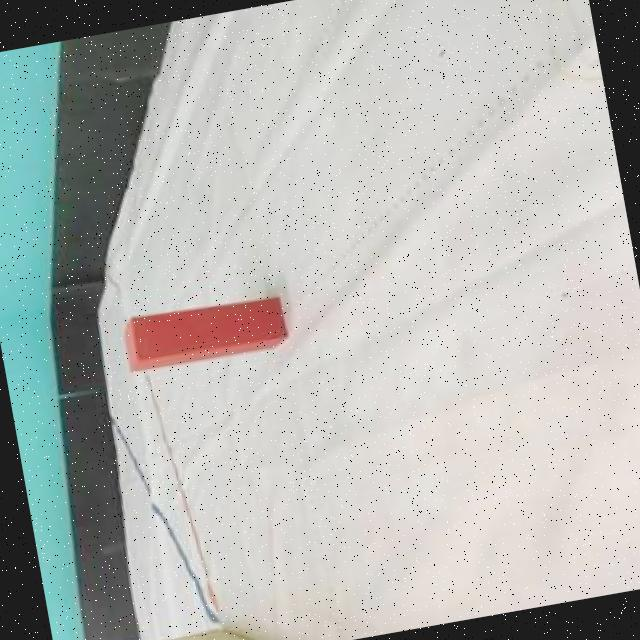redbox: (119, 293, 288, 372)
